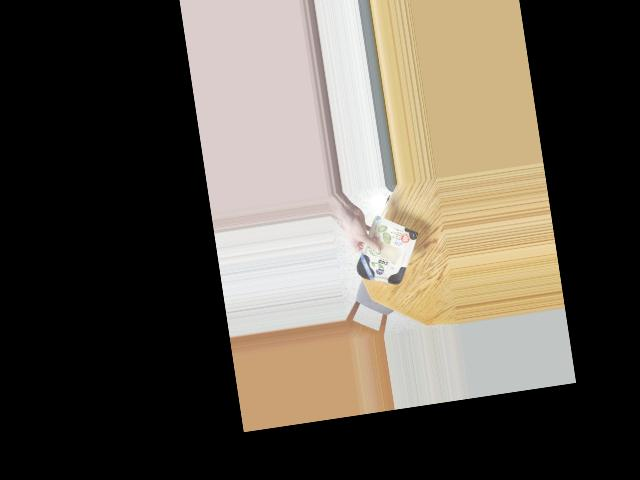cheese: (351, 218, 420, 288)
